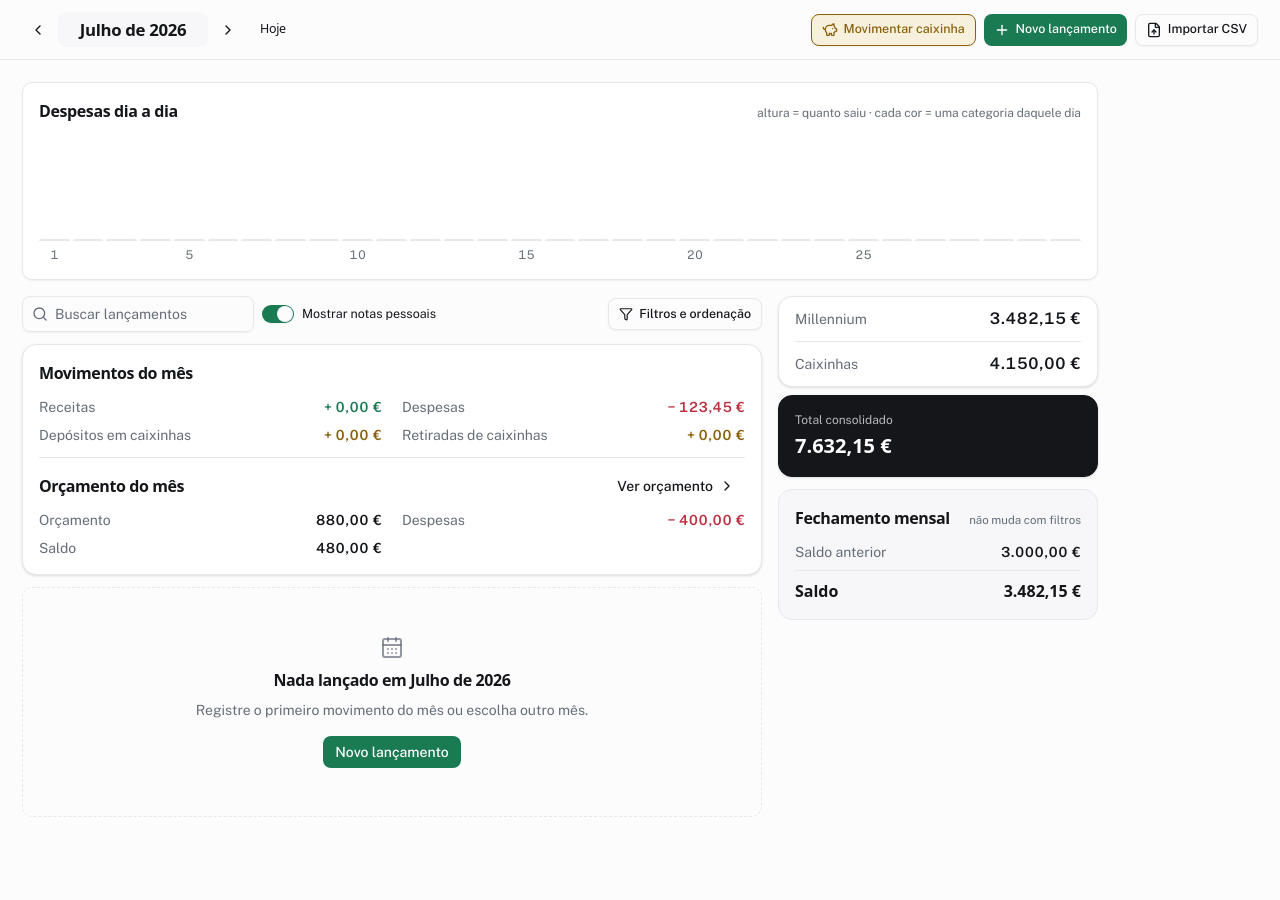
Test case: MonthPage › shows the approved month-list controls without a generic table
Expected: the text "Nada lançado em Julho de 2026" is shown, x1=273 y1=668 x2=510 y2=692
Expected: the number of buttons "Novo lançamento" is 2, x1=984 y1=14 x2=1127 y2=46; x1=323 y1=736 x2=461 y2=768
What coordinates should you click on to do the following:
click the button "Filtros e ordenação"
I would click on:
 (685, 314)
Its box is x1=608 y1=298 x2=762 y2=330.
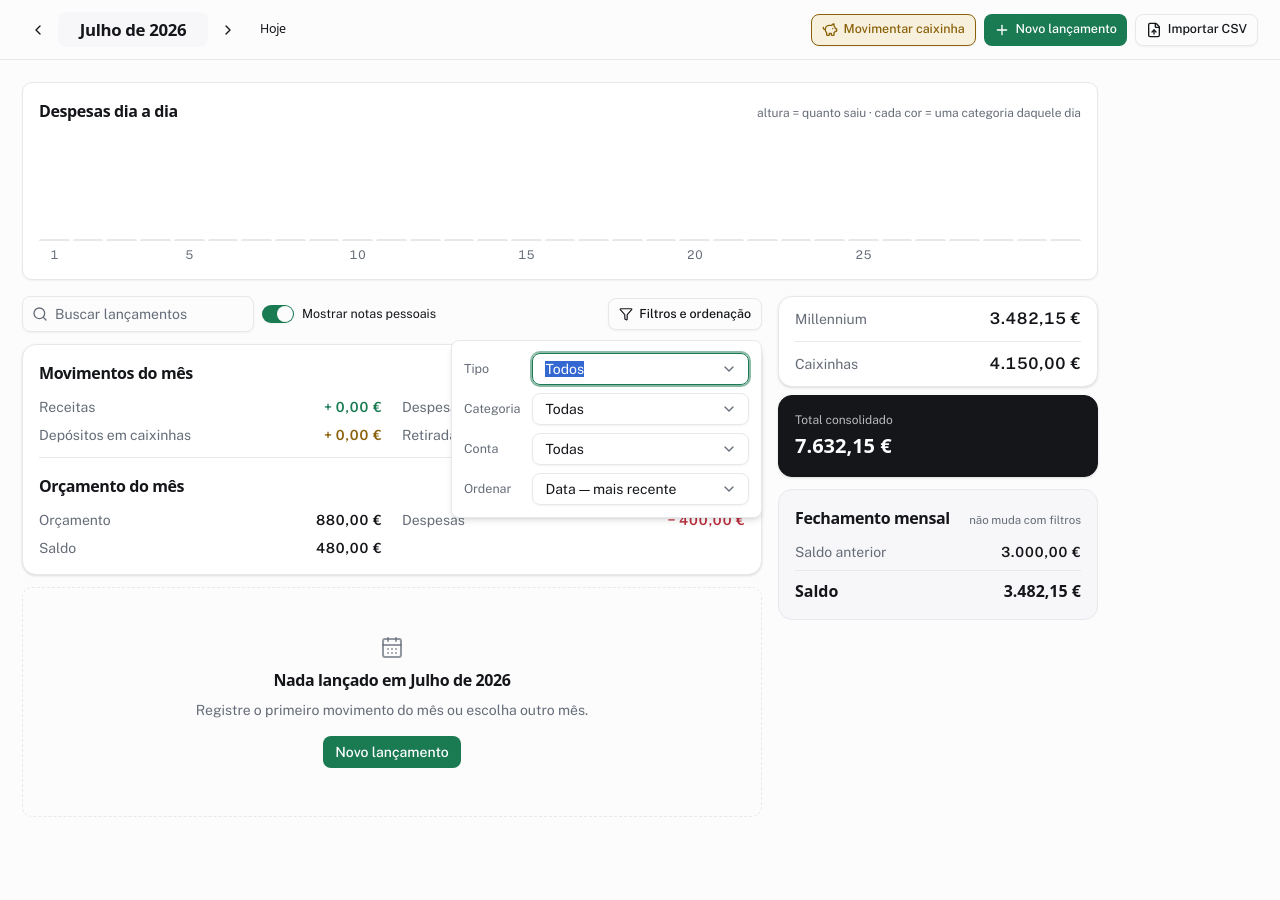
What coordinates should you click on to do the following:
click the dropdown named "Ordenar"
I would click on:
 (641, 489)
Its box is x1=532 y1=473 x2=749 y2=505.
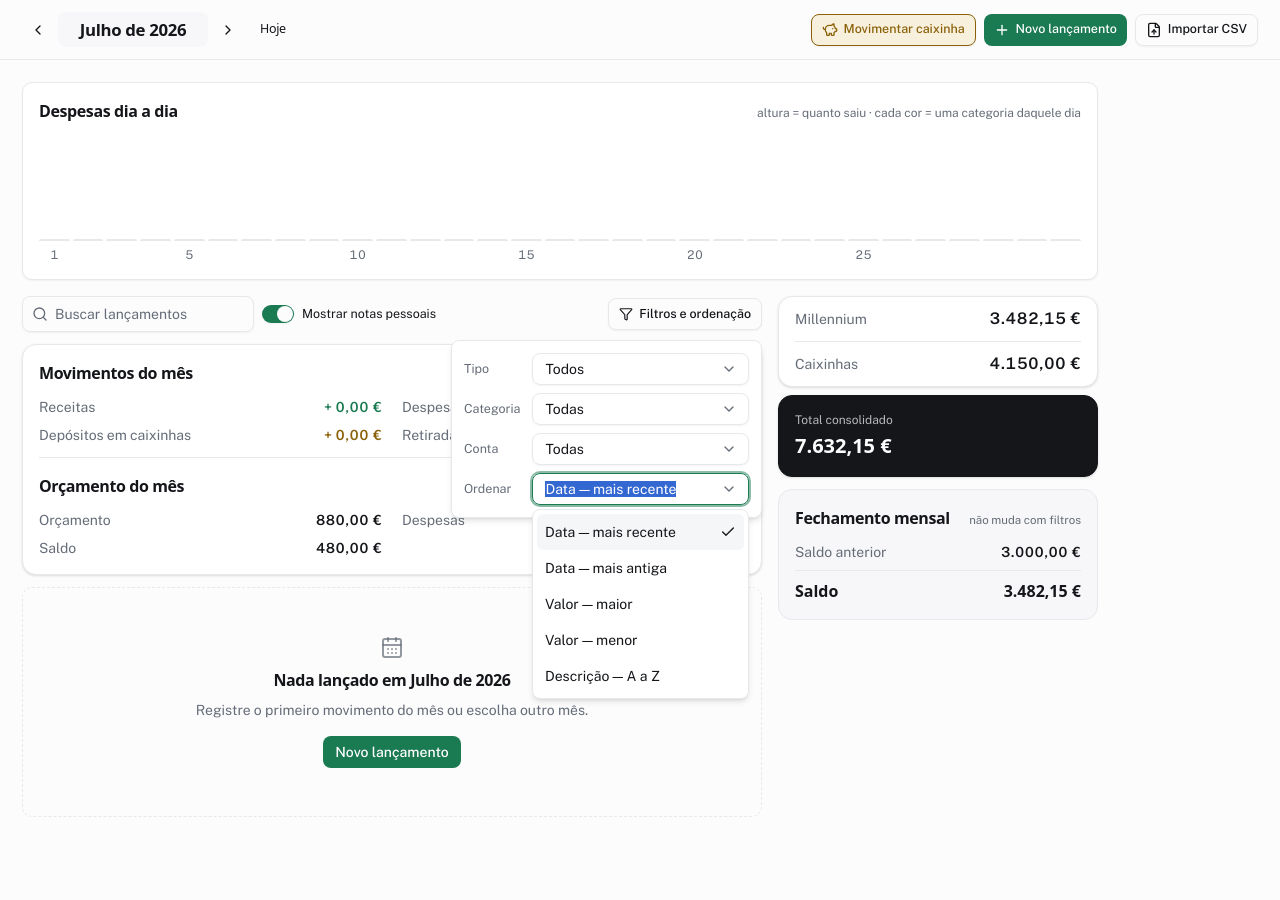
Now the options read "Data — mais recente", "Data — mais antiga", "Valor — maior", "Valor — menor", "Descrição — A a Z", in this order, box x1=537 y1=514 x2=744 y2=550; x1=545 y1=560 x2=667 y2=576; x1=545 y1=596 x2=633 y2=612; x1=545 y1=632 x2=638 y2=648; x1=545 y1=668 x2=660 y2=684
